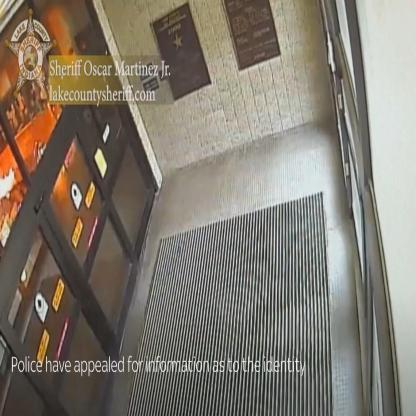fire: (0, 167, 15, 198)
